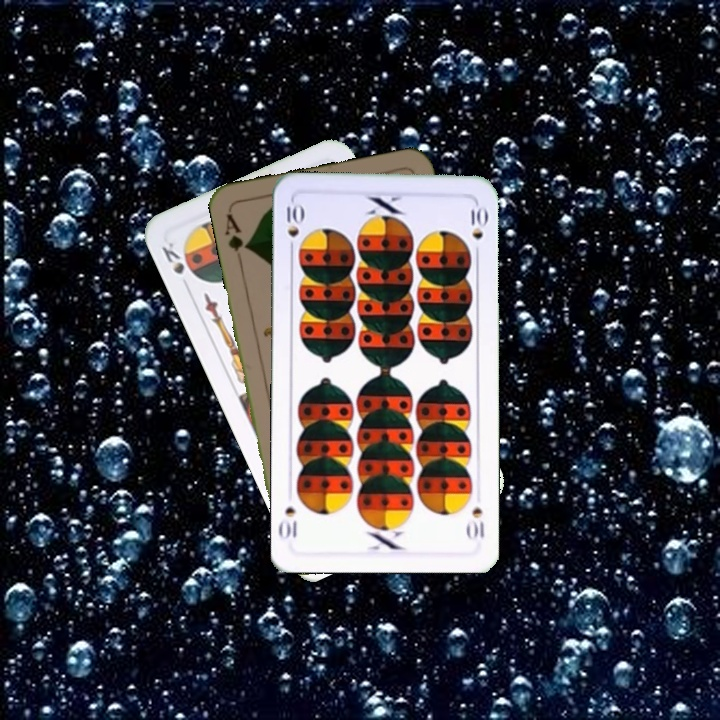GA: (221, 209, 252, 266)
S10: (282, 197, 305, 256), (463, 503, 486, 541)
SK: (157, 237, 187, 277)
